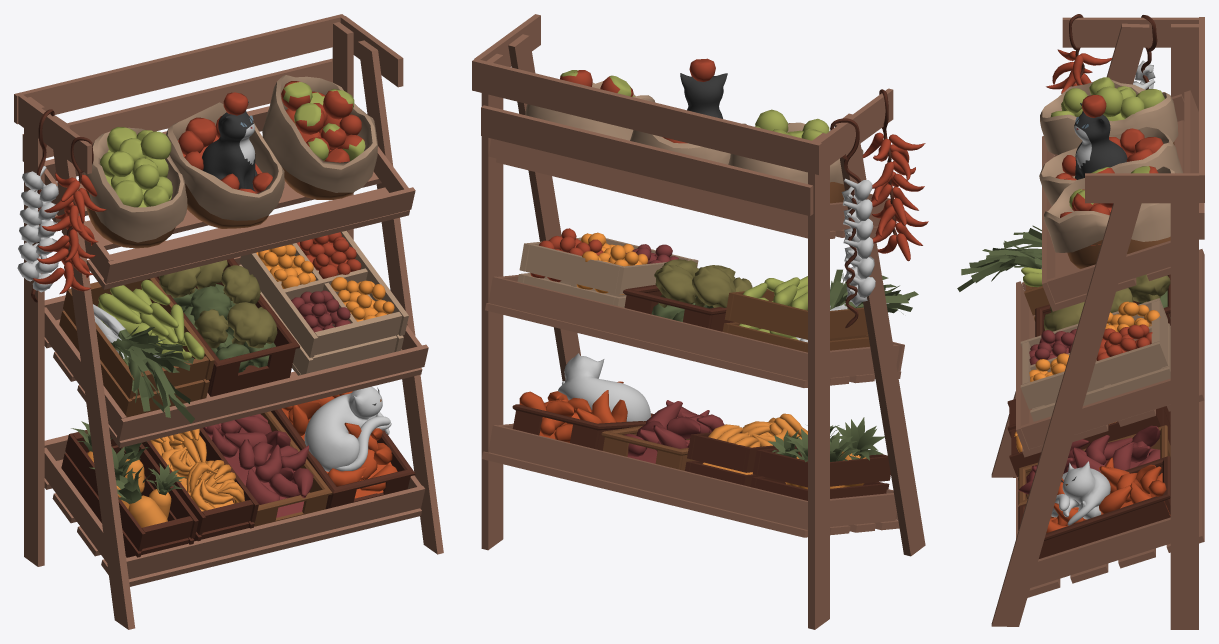
File: shop2-DIpbfeq4.glb
3 renders of one model, left to right at view 1: azimuth 30°, elevation 25°; view 2: azimuth 150°, elevation 25°; view 3: azimuth 270°, elevation 25°, orthographic. The views are drawn at different scales.
Visible parts, largest first — view 1: pCube5, polySurface92, polySurface96, polySurface97, polySurface100, polySurface1, pCube4, polySurface101, polySurface67, polySurface68, pCube8, polySurface66 (+43 smaller); view 2: pCube5, polySurface92, polySurface96, pCube8, polySurface101, pCube1, polySurface100, polySurface97, polySurface1, polySurface10, polySurface66, pCone29 (+22 smaller); view 3: pCube1, pCube4, polySurface1, polySurface97, polySurface67, polySurface96, polySurface109, polySurface92, pCube6, polySurface69, pCube7, polySurface100 (+32 smaller).
Part boxes in pixels (left/top/right/bottom): pCube5: left=14, top=14, right=344, bottom=124; polySurface92: left=44, top=435, right=425, bottom=579; polySurface96: left=44, top=256, right=428, bottom=441; polySurface97: left=44, top=106, right=415, bottom=283; polySurface100: left=53, top=115, right=135, bottom=629; polySurface1: left=239, top=230, right=408, bottom=375; pCube4: left=358, top=40, right=443, bottom=554; polySurface101: left=24, top=97, right=44, bottom=566; polySurface67: left=262, top=75, right=377, bottom=200; polySurface68: left=166, top=102, right=284, bottom=228; pCube8: left=22, top=58, right=332, bottom=161; polySurface66: left=61, top=430, right=198, bottom=557; pCube5: left=472, top=58, right=821, bottom=174; polySurface92: left=488, top=423, right=898, bottom=529; polySurface96: left=488, top=275, right=904, bottom=381; pCube8: left=481, top=105, right=813, bottom=215; polySurface101: left=808, top=133, right=829, bottom=629; pCube1: left=481, top=53, right=503, bottom=550; polySurface100: left=834, top=113, right=925, bottom=556; polySurface97: left=488, top=138, right=890, bottom=234; polySurface1: left=517, top=237, right=698, bottom=307; polySurface10: left=722, top=289, right=869, bottom=352; polySurface66: left=750, top=446, right=890, bottom=500; pCone29: left=862, top=132, right=928, bottom=261; pCube1: left=1170, top=203, right=1198, bottom=629; pCube4: left=991, top=203, right=1141, bottom=626; polySurface1: left=1020, top=298, right=1170, bottom=421; polySurface97: left=1042, top=90, right=1198, bottom=305; polySurface67: left=1044, top=166, right=1174, bottom=268; polySurface96: left=1016, top=281, right=1170, bottom=451; polySurface109: left=1018, top=456, right=1170, bottom=558; polySurface92: left=1016, top=475, right=1170, bottom=587; pCube6: left=1085, top=173, right=1199, bottom=203; polySurface69: left=1040, top=79, right=1178, bottom=154; pCube7: left=1062, top=17, right=1199, bottom=47; polySurface100: left=991, top=23, right=1149, bottom=477.
Size of the model in its own units: 3.11 by 3.75 by 1.83.
